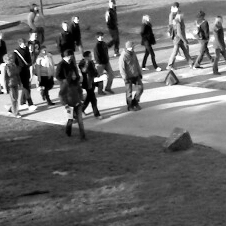person: (60, 68, 86, 141), (12, 38, 37, 112), (78, 51, 104, 120), (119, 41, 143, 111), (166, 11, 193, 70), (171, 2, 193, 63), (33, 45, 55, 106), (94, 32, 115, 94), (140, 14, 162, 71), (193, 11, 214, 69), (4, 54, 21, 116), (105, 1, 120, 56), (213, 15, 226, 75), (56, 50, 80, 82), (27, 3, 45, 45), (56, 21, 76, 56), (69, 15, 83, 51), (26, 29, 41, 59), (1, 32, 7, 94)
